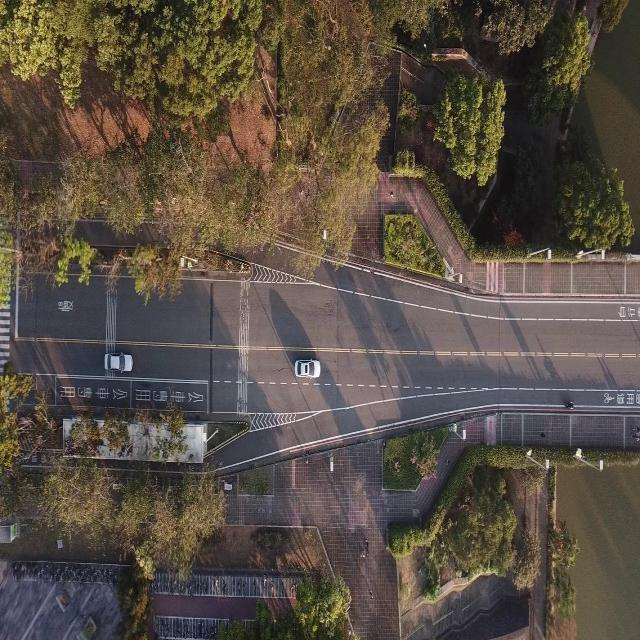bike: (564, 396, 578, 411)
car: (104, 352, 133, 374), (294, 358, 320, 379)
